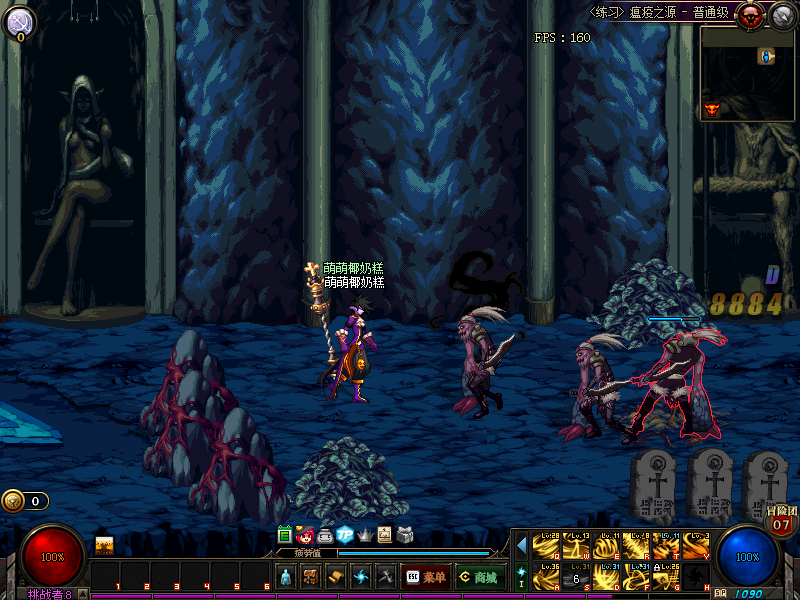StormRider: (328, 305, 374, 401)
WhitehairedBanshee: (637, 330, 711, 438), (455, 304, 507, 420), (574, 332, 629, 438)
